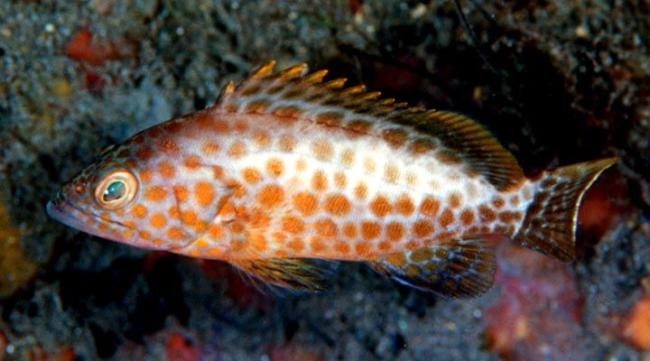fish: (47, 59, 619, 301)
